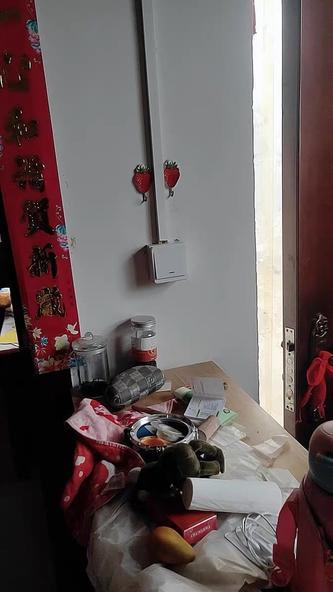switch: (152, 246, 189, 283)
